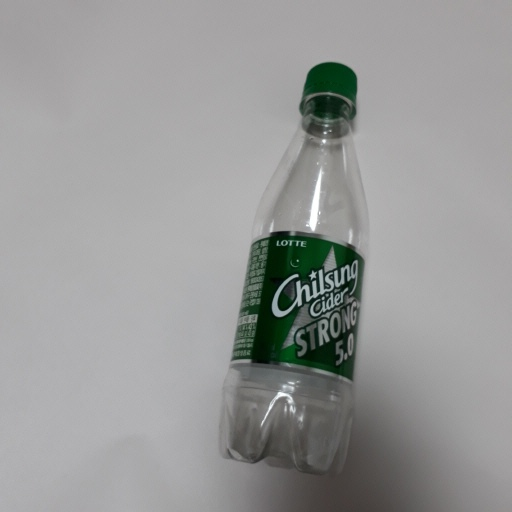Plastic_0: (222, 61, 369, 476)
